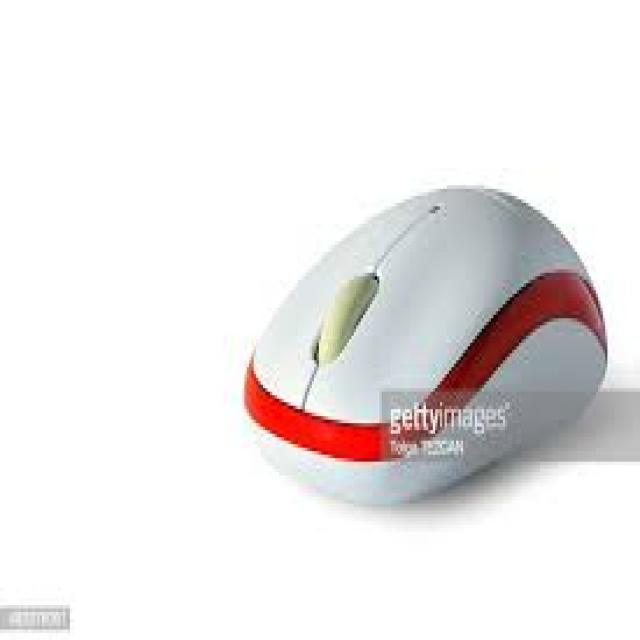others: (221, 178, 624, 511)
